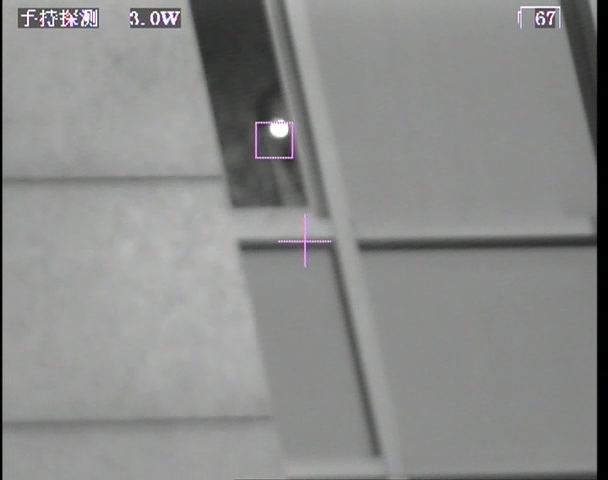my: (269, 118, 288, 137)
